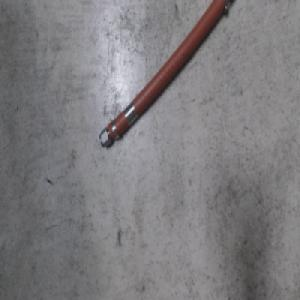Hose: (97, 0, 234, 151)
